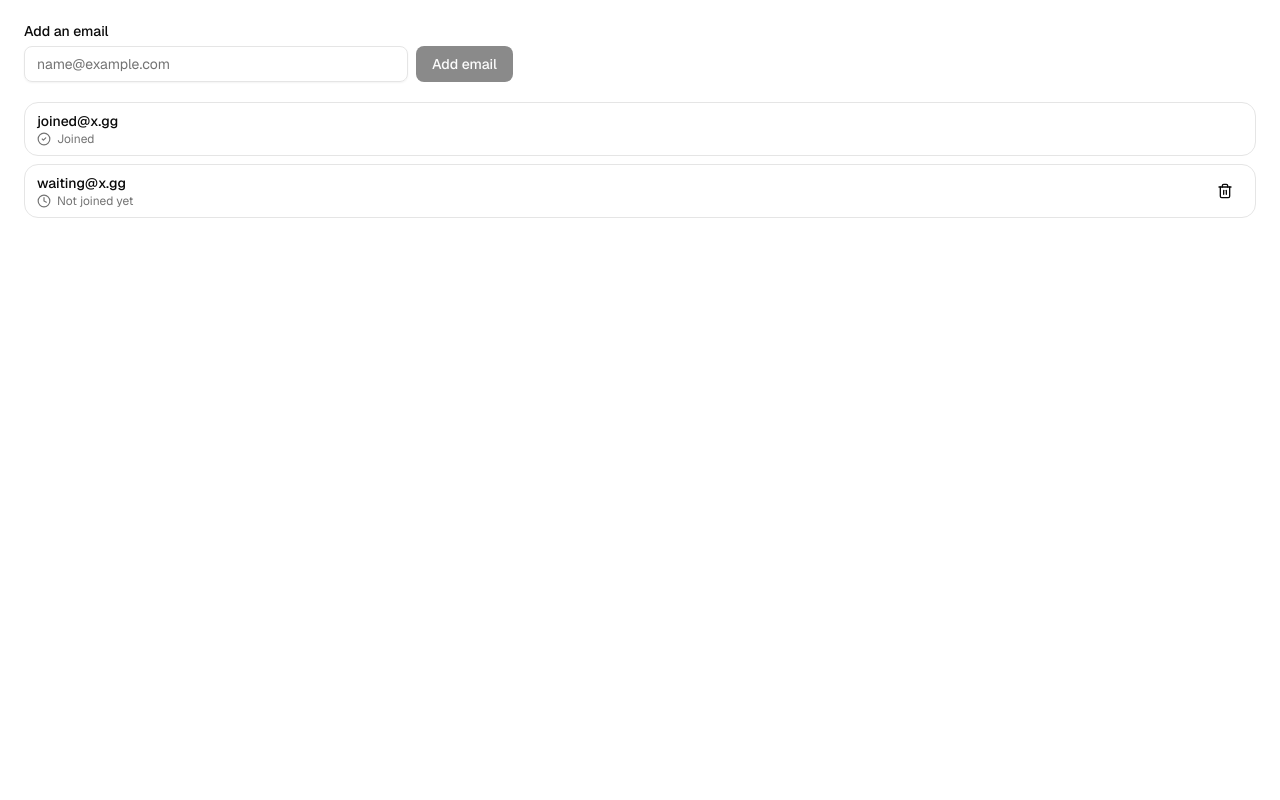
AccessList › removes after the admin confirms
Later steps or results of the test are not shown.
Click the button named "Remove waiting@x.gg". click: coordinates (1225, 191)
box: left=1207, top=173, right=1243, bottom=209
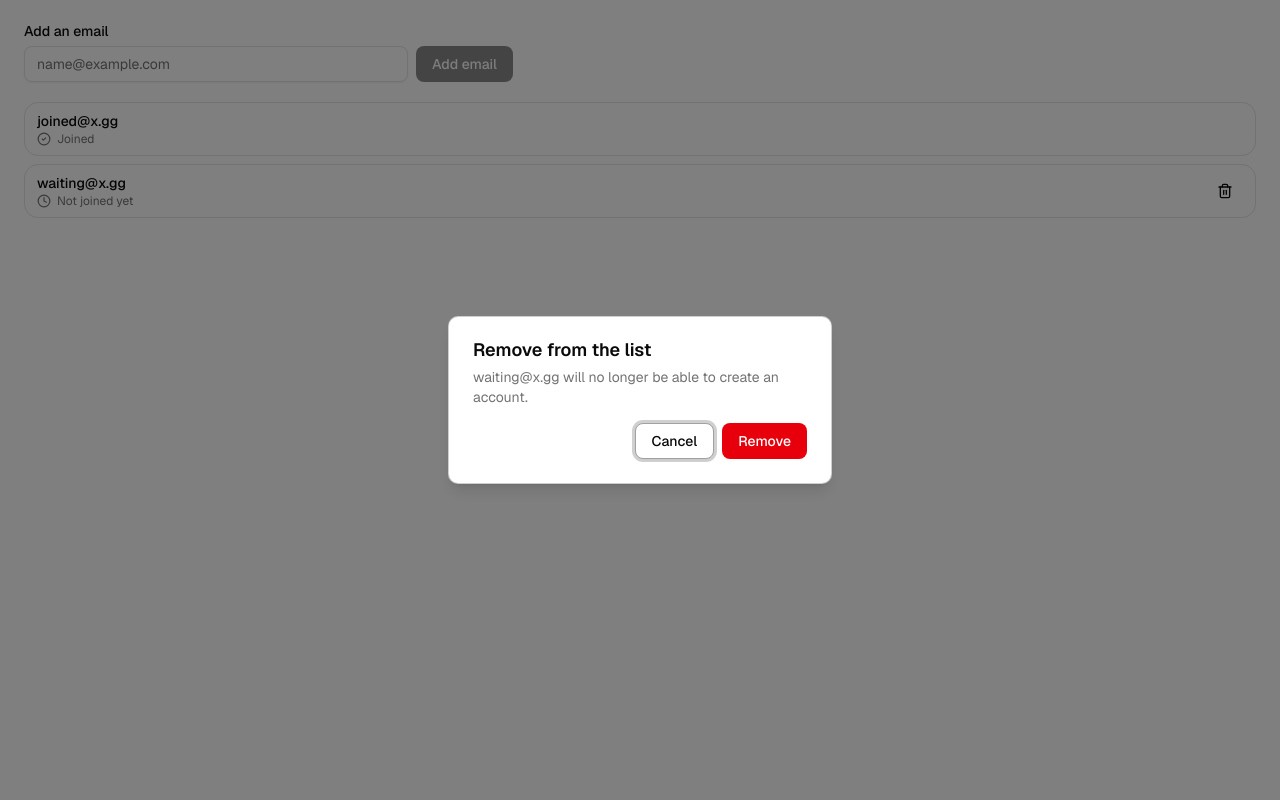
Result: the text "waiting@x.gg will no longer be able to create an account." is shown at left=473, top=367, right=807, bottom=407
